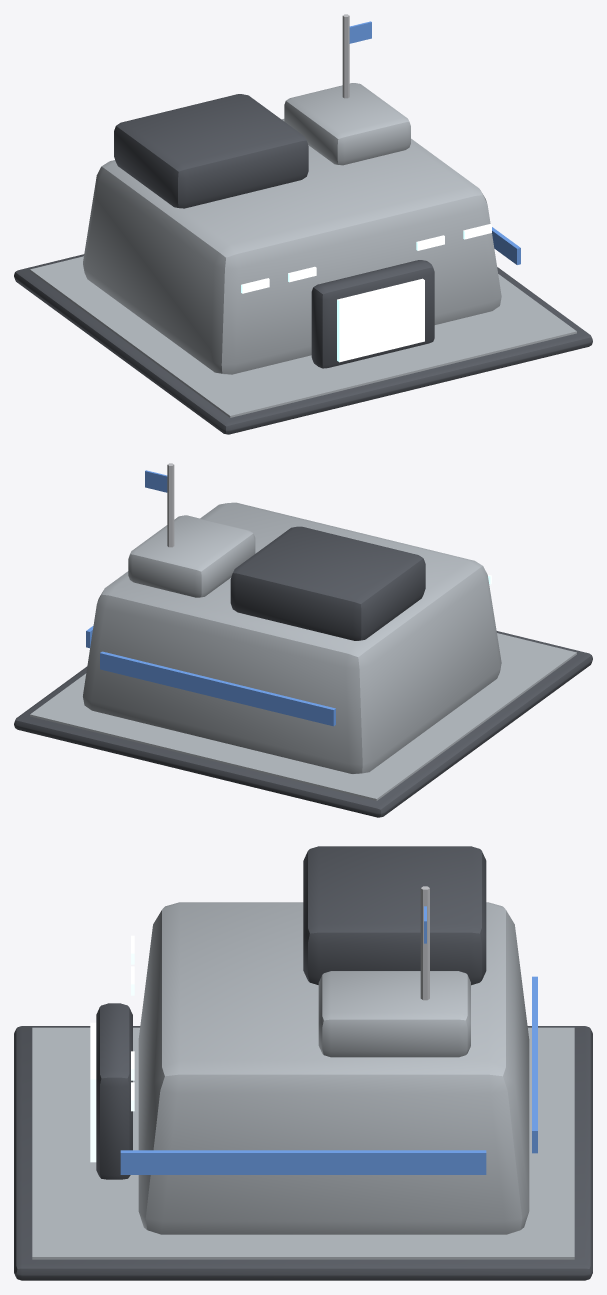
The model's file is barracks_hum.glb.
The picture shows the model from 3 angles, top to bottom: view 1: azimuth 30°, elevation 25°; view 2: azimuth 150°, elevation 25°; view 3: azimuth 270°, elevation 25°; orthographic projection. The views are drawn at different scales.
Parts seen in each view (by area): view 1: barracks_hum; view 2: barracks_hum; view 3: barracks_hum.
Part boxes in pixels (x1=…): barracks_hum: x1=14, y1=14, x2=592, y2=434; barracks_hum: x1=14, y1=463, x2=592, y2=817; barracks_hum: x1=14, y1=846, x2=592, y2=1280.
Size of the model in its own units: 1.9 by 1.2 by 1.9.
